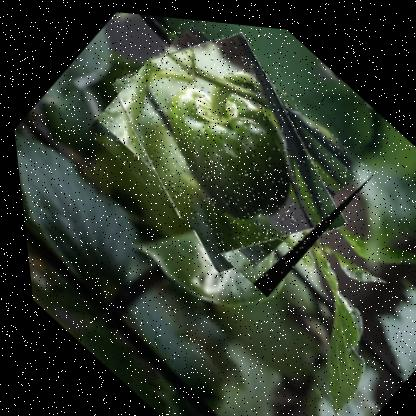capsicum: (70, 6, 385, 302)
